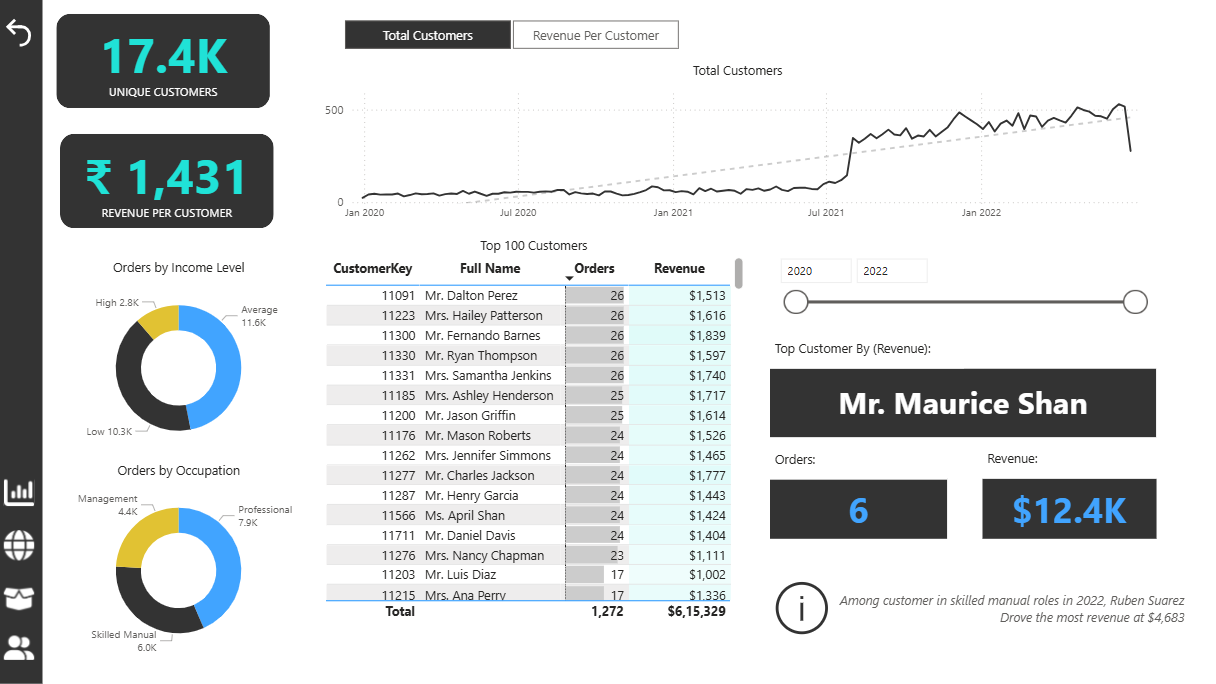

What the dashboard file says about the page in this screenshot:
{"tool":"powerbi","page":{"name":"Customer Detail","canvas":[1280,720],"ordinal":3},"visuals":[{"type":"shape","box":[0,0,44.7,719.7],"z":0},{"type":"actionButton","box":[0,498.8,45,40],"z":1000,"group":"g1"},{"type":"shape","box":[59.7,14.9,225.2,99.5],"z":1000},{"type":"actionButton","box":[0,553.8,45,40],"z":2000,"group":"g1"},{"type":"shape","box":[62.9,141.3,225.2,99.5],"z":2000},{"type":"card","fields":{"Values":["Measure Table.Total Customers"]},"box":[74.6,14.9,194.1,99.5],"z":3000},{"type":"actionButton","box":[0,610,45,40],"z":3000,"group":"g1"},{"type":"card","fields":{"Values":["Measure Table.Average Revenue Per Customer"]},"box":[79.1,133.9,194.1,114.4],"z":4000},{"type":"actionButton","box":[0,662.6,45,40],"z":4000,"group":"g1"},{"type":"lineChart","fields":{"Y":["Measure Table.Total Customers"],"Category":["Calendar Lookup.Date Hierarchy.Start of Year","Calendar Lookup.Date Hierarchy.Start of Month","Calendar Lookup.Date Hierarchy.Start of Week","Calendar Lookup.Date Hierarchy.Date"]},"box":[337.1,64.7,879.5,176.6],"z":5000},{"type":"donutChart","title":"Orders by Income Level","fields":{"Category":["Customer Lookup.Income Level"],"Y":["Measure Table.Total Orders"]},"box":[63.4,272.4,250,212.7],"z":6000},{"type":"donutChart","title":"Orders by Occupation","fields":{"Y":["Measure Table.Total Orders"],"Category":["Customer Lookup.Occupation"]},"box":[63.4,485.1,250,212.7],"z":7000},{"type":"tableEx","title":"Top 100 Customers","fields":{"Values":["Customer Lookup.CustomerKey","Customer Lookup.Full Name","Measure Table.Total Orders","Measure Table.Total Revenue"]},"box":[337.1,248.8,450.3,409.3],"z":8000},{"type":"card","fields":{"Values":["Customer Lookup.Full Name"]},"box":[810.3,387.7,406.8,72.1],"z":9000},{"type":"card","fields":{"Values":["Measure Table.Total Orders"]},"box":[810.3,503.4,186.6,63.4],"z":10000},{"type":"card","fields":{"Values":["Measure Table.Total Revenue"]},"box":[1034.2,503.4,182.9,63.4],"z":11000},{"type":"textbox","box":[810.3,352.8,204,34.8],"z":12000},{"type":"textbox","box":[810.3,469.8,186.6,34.8],"z":13000},{"type":"textbox","box":[1034.2,468.5,182.9,34.8],"z":14000},{"type":"slicer","fields":{"Values":["Calendar Lookup.Year"]},"box":[809.8,262.5,406.8,90.8],"z":15000},{"type":"actionButton","box":[809.8,605.8,441.6,69.7],"z":16000},{"type":"actionButton","box":[0,14.5,42.1,39.5],"z":17000},{"type":"group","id":"g1","title":"Navigation Buttons","box":[0,498.8,45,203.8],"z":18000},{"type":"slicer","fields":{"Values":["Customer Metric Selection.Customer Metric Selection"]},"box":[337.1,14.9,401.8,43.5],"z":19000}]}

Visuals, with their boxes in screenshot pixels (x1, y1, x2, y2), scaled from the page's 1280x720 canvas onto the 1216x684 screenshot:
shape: box=[0, 0, 42, 683]
actionButton: box=[0, 474, 43, 512]
shape: box=[57, 14, 271, 109]
actionButton: box=[0, 526, 43, 564]
shape: box=[60, 134, 274, 229]
card - Measure Table.Total Customers: box=[71, 14, 255, 109]
actionButton: box=[0, 580, 43, 618]
card - Measure Table.Average Revenue Per Customer: box=[75, 127, 260, 236]
actionButton: box=[0, 629, 43, 667]
lineChart - Measure Table.Total Customers x Calendar Lookup.Date Hierarchy.Start of Year: box=[320, 61, 1156, 229]
"Orders by Income Level" donutChart: box=[60, 259, 298, 461]
"Orders by Occupation" donutChart: box=[60, 461, 298, 663]
"Top 100 Customers" tableEx: box=[320, 236, 748, 625]
card - Customer Lookup.Full Name: box=[770, 368, 1156, 437]
card - Measure Table.Total Orders: box=[770, 478, 947, 538]
card - Measure Table.Total Revenue: box=[982, 478, 1156, 538]
textbox: box=[770, 335, 964, 368]
textbox: box=[770, 446, 947, 479]
textbox: box=[982, 445, 1156, 478]
slicer - Calendar Lookup.Year: box=[769, 249, 1156, 336]
actionButton: box=[769, 576, 1189, 642]
actionButton: box=[0, 14, 40, 51]
"Navigation Buttons" group: box=[0, 474, 43, 667]
slicer - Customer Metric Selection.Customer Metric Selection: box=[320, 14, 702, 55]
